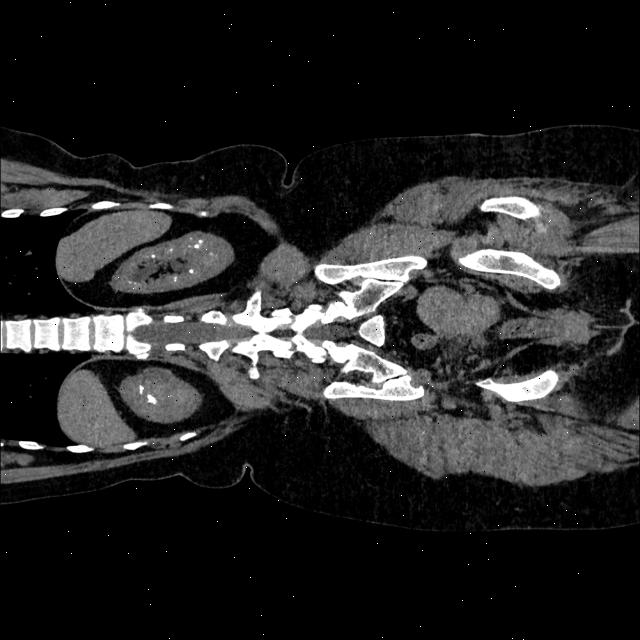kidneystone: (147, 392, 157, 404), (193, 238, 203, 248), (139, 384, 145, 394), (188, 268, 194, 274)
